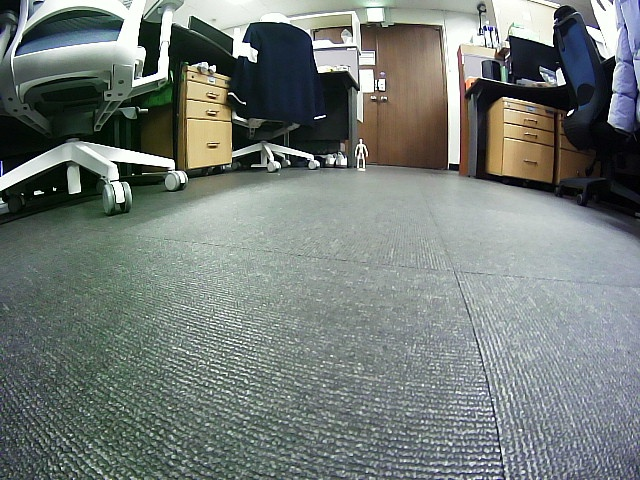person: (355, 139, 368, 167)
